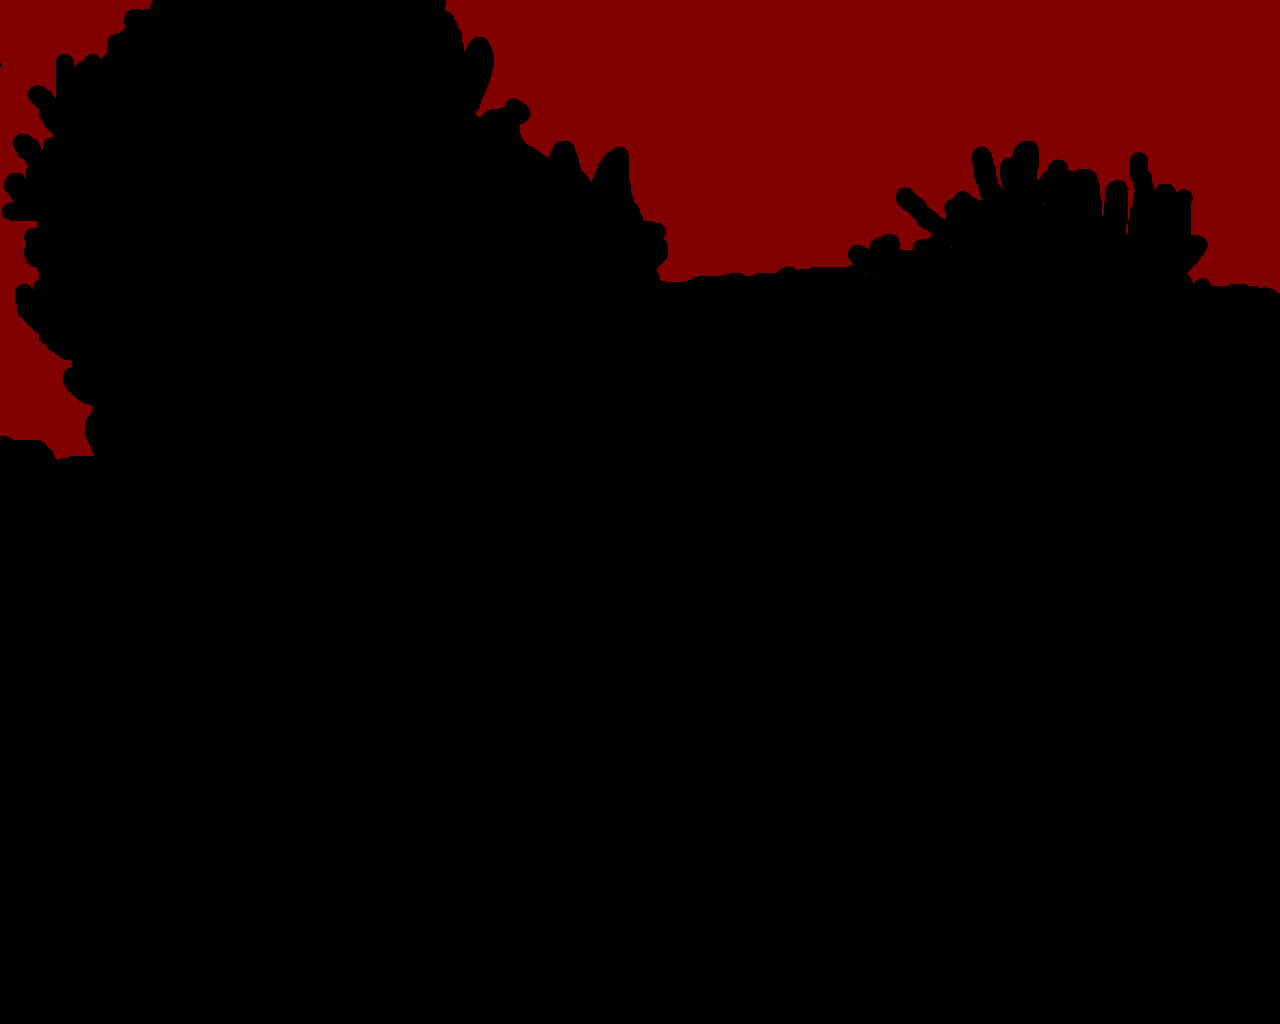Sky: (1, 1, 1279, 460)
